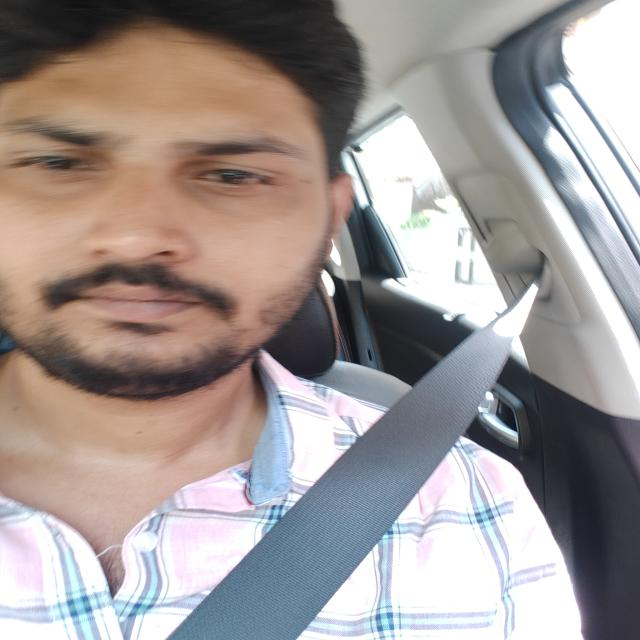seatbelt: (187, 260, 576, 640)
